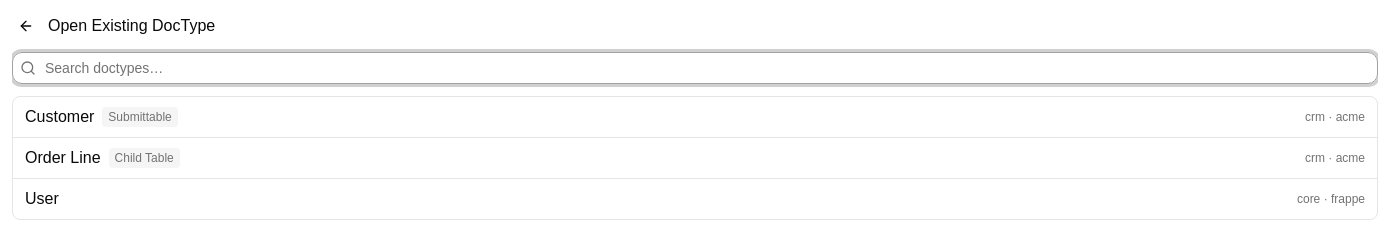
it: DocTypeList › searches across name, module, and app
Expected: the text "User" is shown, [25,187,59,211]
Type "frappe" into the field with placeholder "Search doctypes…" at coordinates (695, 68), box [12,52,1378,84]
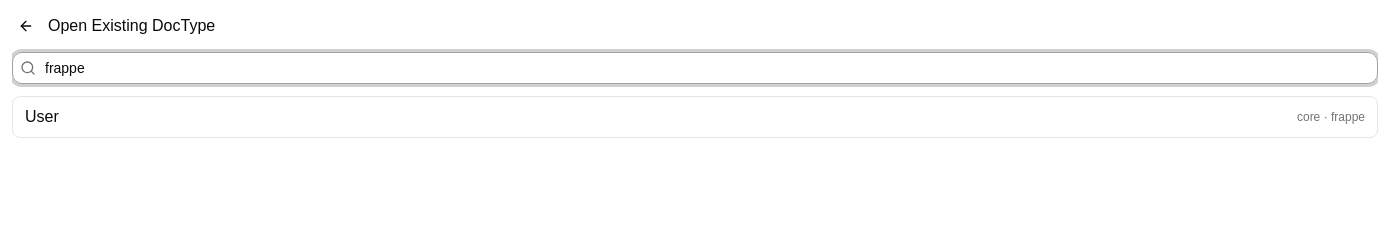
Expected: the text "User" is shown, [25,105,59,129]
Expected: the button "Customer" is gone
